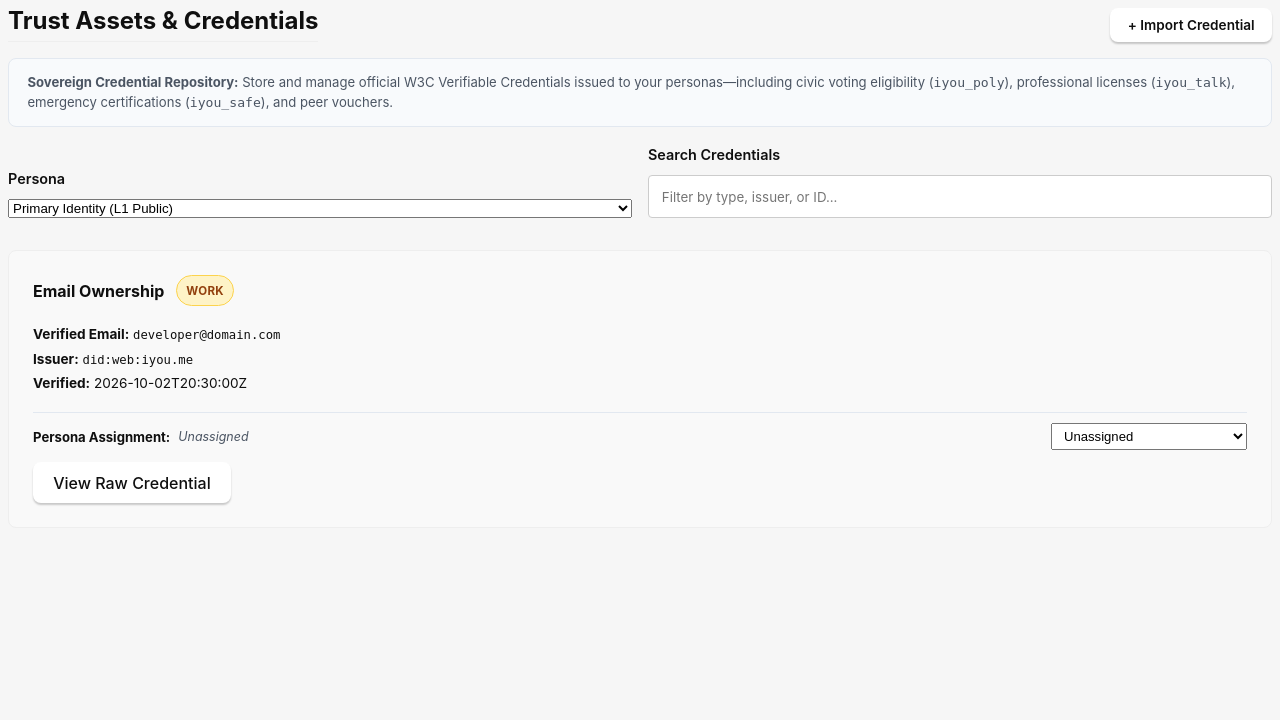
TrustAssets › assigns and moves a credential between personas via Tauri IPC and updates UI state
Check: the heading "Email Ownership" is shown, box [33,279,164,303]
Check: the text with test id "assigned-persona-none-urn:uuid:email-vc-1" reads "Unassigned", box [178,428,248,444]
// Assign to L2 Contextual Alias ("alt" / "Alt Persona")
Select "Alt Persona (L2 Burner)" in the dropdown with test id "persona-assignment-select-urn:uuid:email-vc-1" at coordinates (1149, 436), box [1051,423,1247,450]
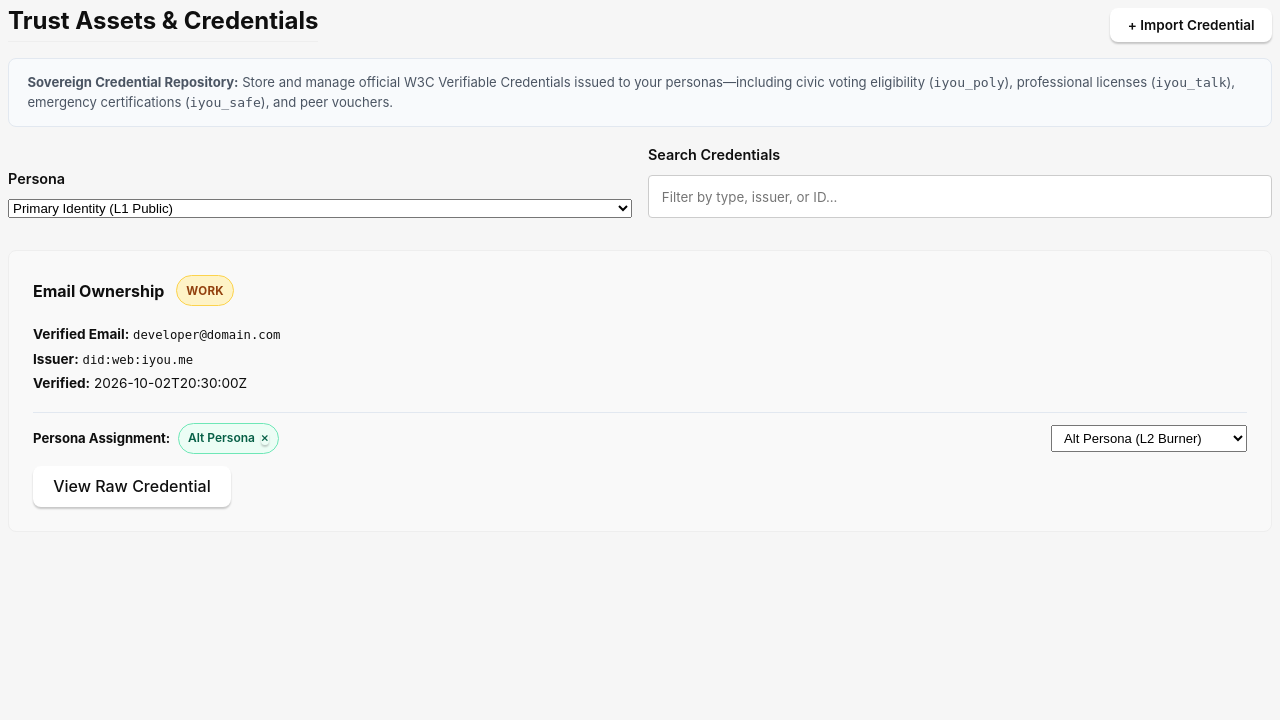
Check: the element with test id "assigned-persona-badge-urn:uuid:email-vc-1-alt" shows "Alt Persona", box [188,430,255,445]
// Move credential to L1 Primary ("primary" / "Primary Identity")
Select "Primary Identity (L1 Public)" in the dropdown with test id "persona-assignment-select-urn:uuid:email-vc-1" at coordinates (1149, 438), box [1051,425,1247,452]
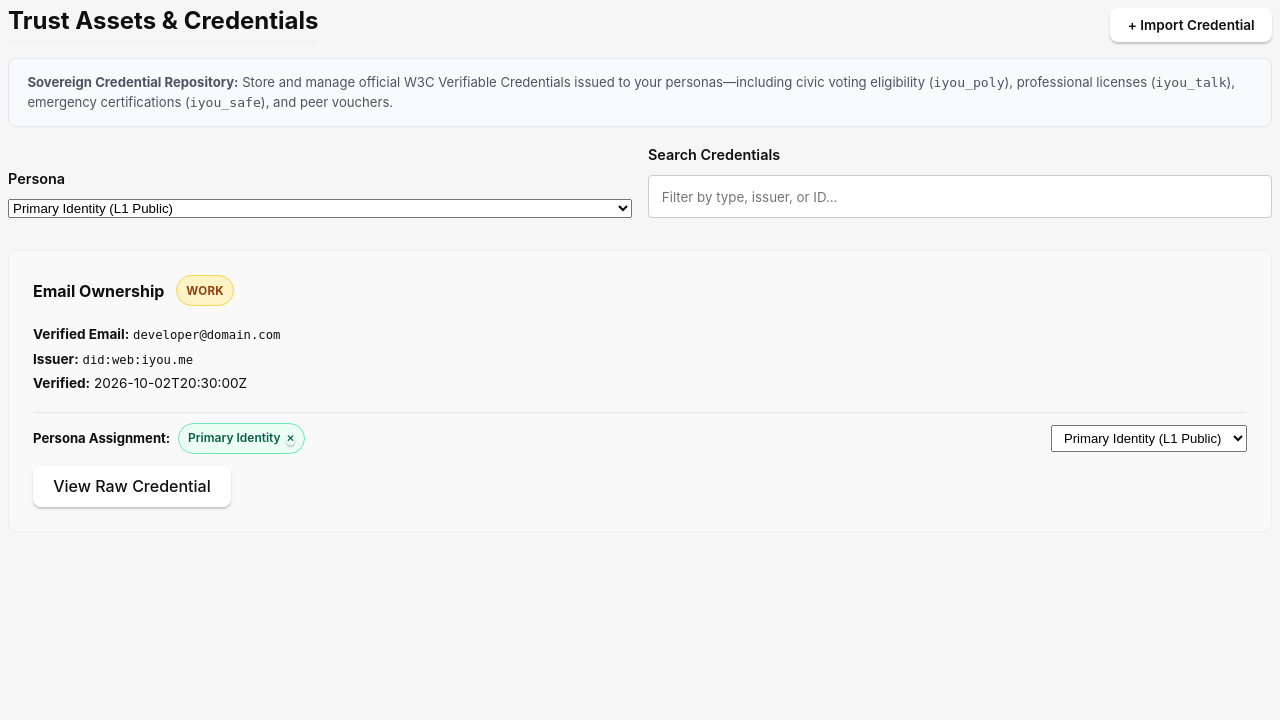
Check: the element with test id "assigned-persona-badge-urn:uuid:email-vc-1-primary" shows "Primary Identity", box [188,430,281,445]
